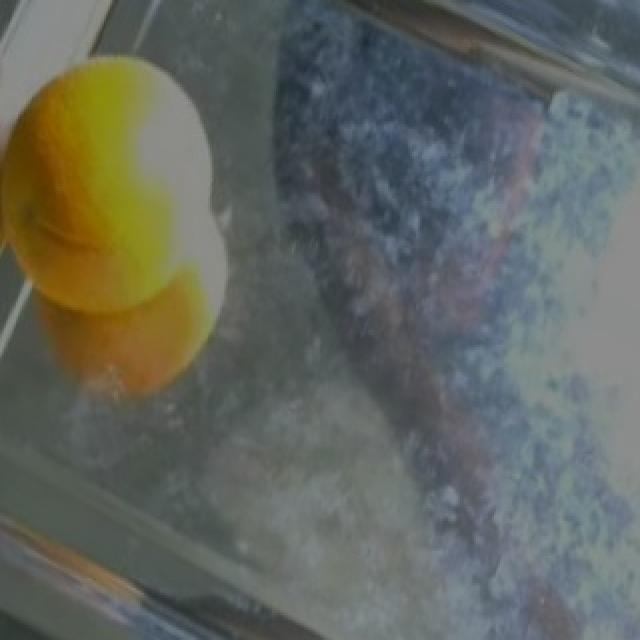Fruit: (0, 64, 252, 427)
